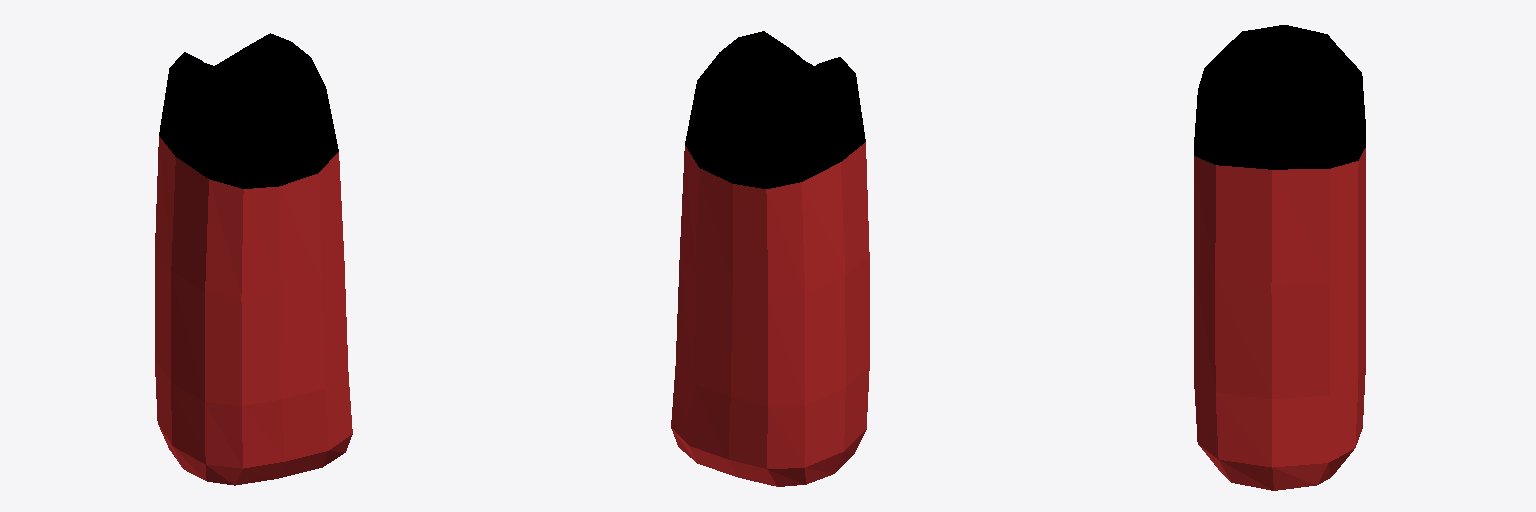
The model's file is Porco-pataDD.obj.
3 renders of one model, left to right at view 1: azimuth 30°, elevation 25°; view 2: azimuth 150°, elevation 25°; view 3: azimuth 270°, elevation 25°, orthographic.
Visible parts, largest first — view 1: Porco-pataDD_Cubo.002; view 2: Porco-pataDD_Cubo.002; view 3: Porco-pataDD_Cubo.002.
Part boxes in pixels (left/top/right/bottom): Porco-pataDD_Cubo.002: left=155, top=33, right=352, bottom=485; Porco-pataDD_Cubo.002: left=671, top=31, right=869, bottom=486; Porco-pataDD_Cubo.002: left=1194, top=25, right=1365, bottom=490.
Size of the model in its own units: 0.5769 by 1.41 by 0.5294.